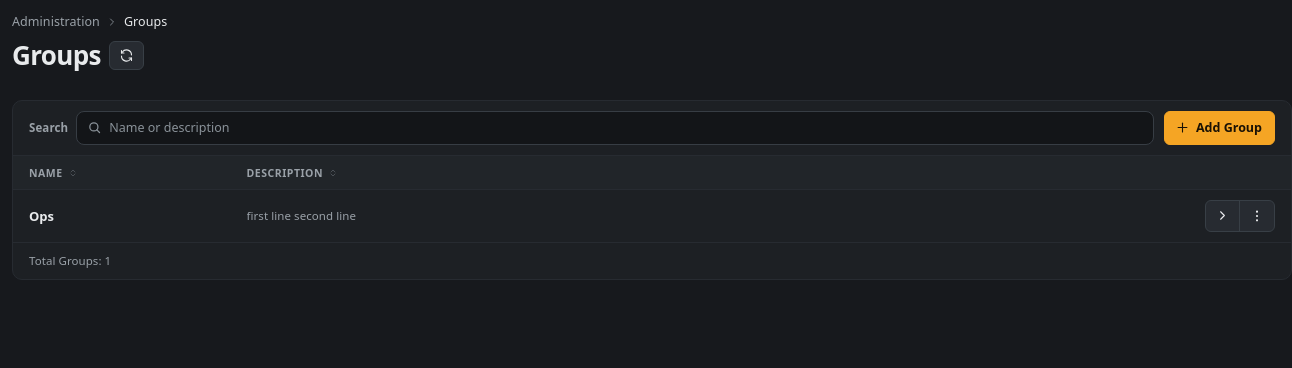
Test: Groups: the table › a description with newlines is drawn over several lines under Details
Check: the text "first line second line" is shown, box [246,208,356,223]
Click the button named "Details". click: (1222, 216)
box: [1206,201,1239,231]
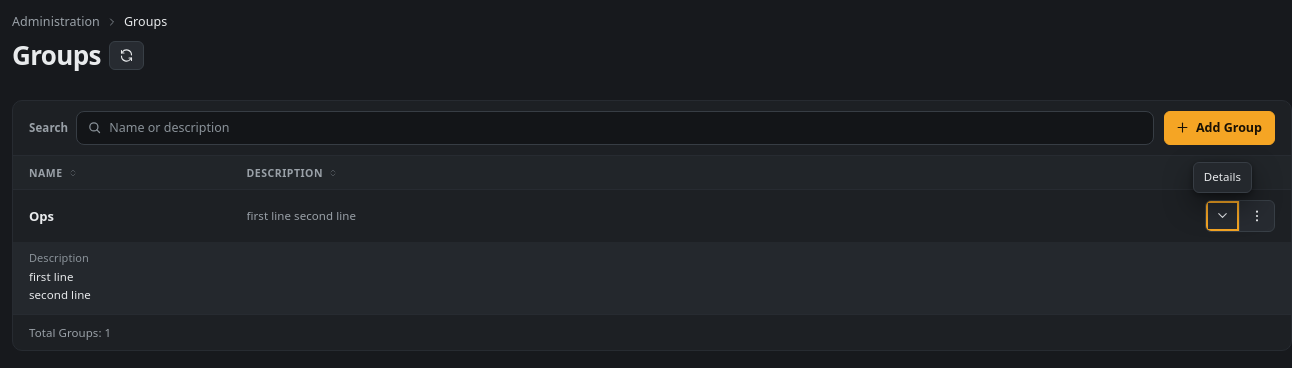
Check: the button named "Details" is expanded, box [1206,201,1239,231]
Check: the text "first line" is shown, box [29,269,74,284]
Check: the text "second line" is shown, box [29,287,91,302]
